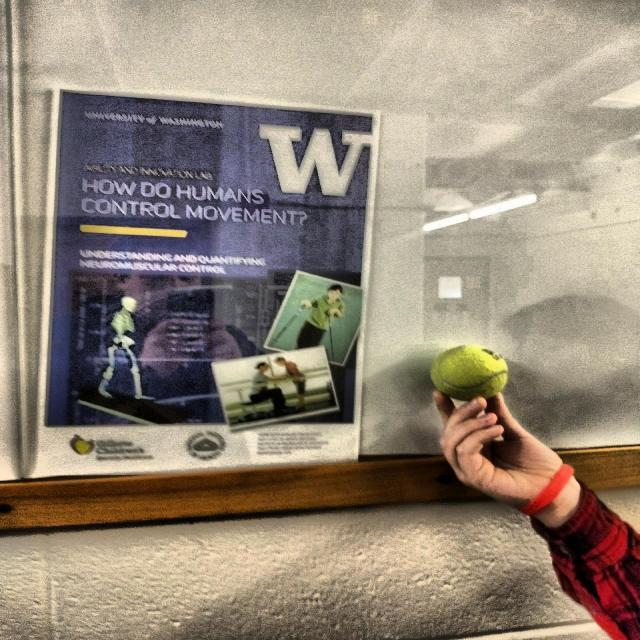tennis-ball: (430, 341, 508, 403)
